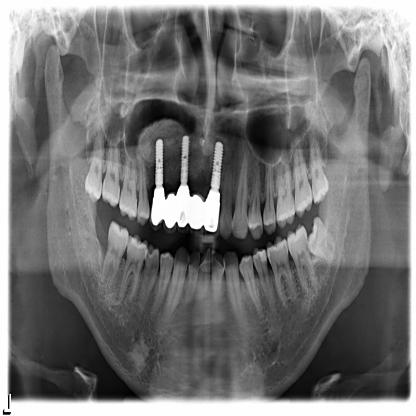ITI: (210, 137, 226, 194), (179, 128, 191, 188), (154, 136, 164, 186)
